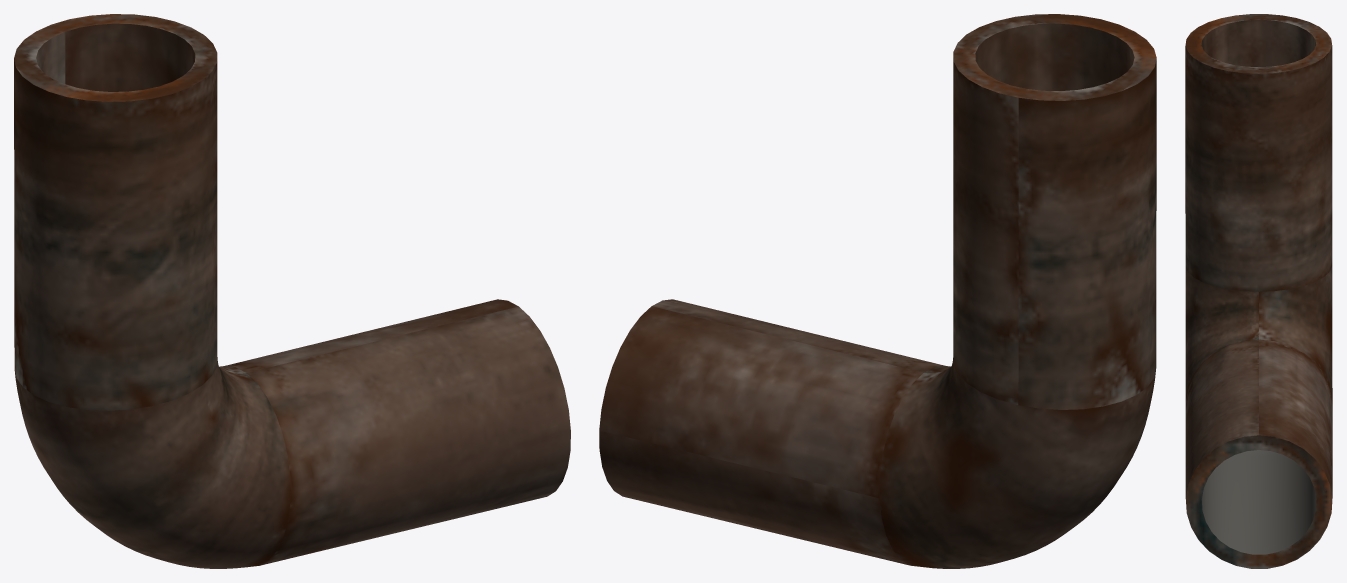
File: Curve_Pipe.fbx
The picture shows the model from 3 angles, left to right: view 1: azimuth 30°, elevation 25°; view 2: azimuth 150°, elevation 25°; view 3: azimuth 270°, elevation 25°; orthographic projection. The views are drawn at different scales.
Parts seen in each view (by area): view 1: nurbsToPoly4; view 2: nurbsToPoly4; view 3: nurbsToPoly4.
Part boxes in pixels (x1,y1,x2,y2): nurbsToPoly4: (14, 14, 570, 568); nurbsToPoly4: (599, 14, 1156, 568); nurbsToPoly4: (1185, 14, 1332, 568).
Bounding box in the file's own units: 601 × 619 × 215.
